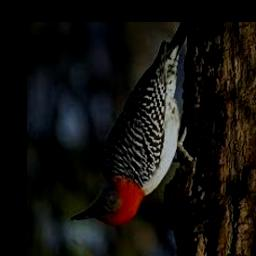Woodpecker: (71, 22, 192, 227)
